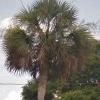Palm tree: (11, 4, 84, 95)
